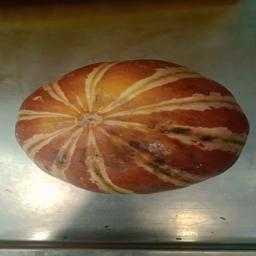Melon Rotten: (13, 53, 253, 211)
